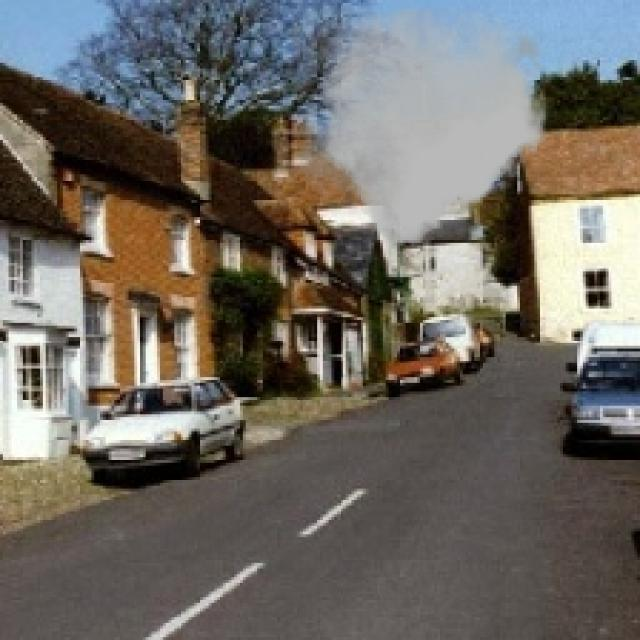Smoke: (292, 8, 552, 245)
